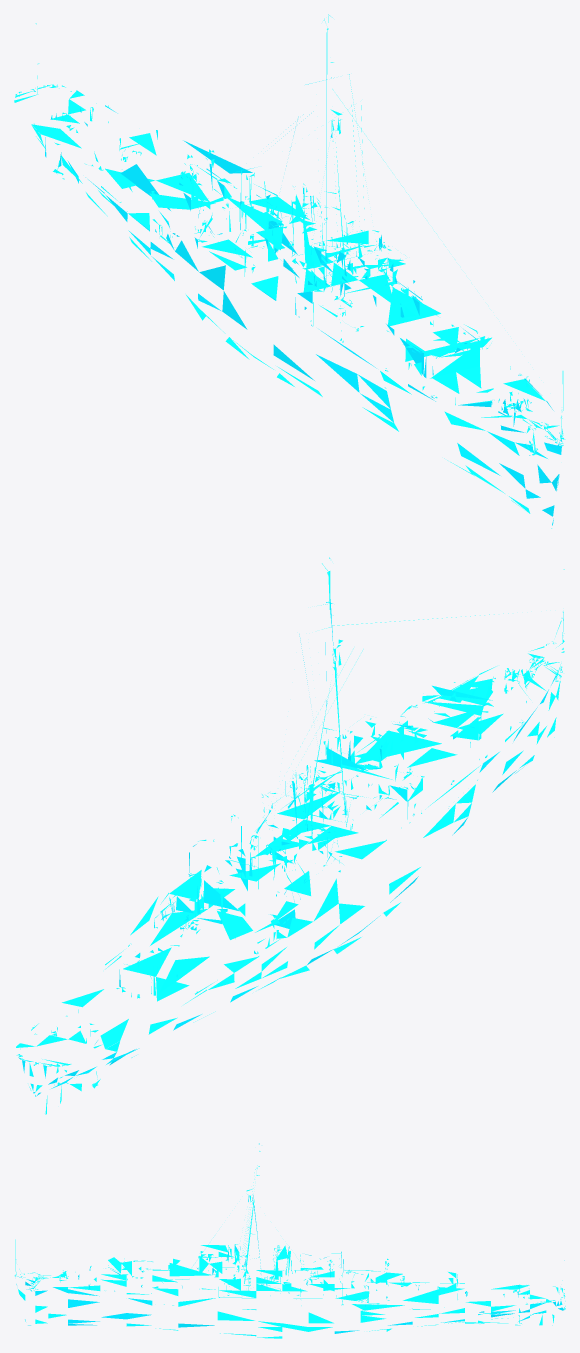
File: Sutlej.glb
3 views of the same model, one above another, from view 1: azimuth 30°, elevation 25°; view 2: azimuth 150°, elevation 25°; view 3: azimuth 270°, elevation 25° (orthographic). The views are drawn at different scales.
Bounding box in the file's own units: 0.7861 × 2.23 × 6.09.
